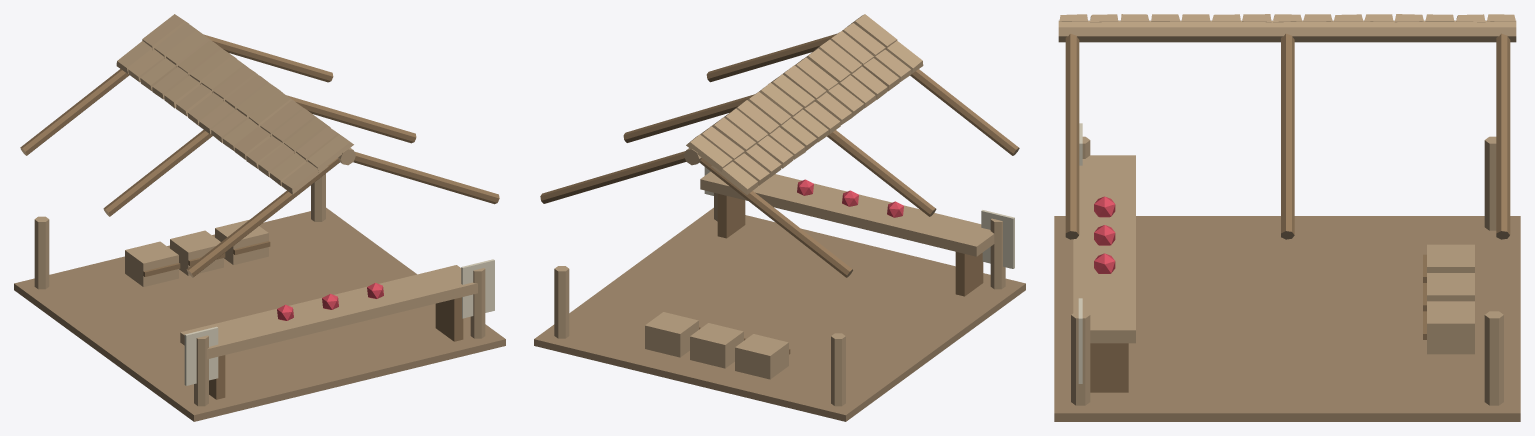
The model's file is building_market_half.glb.
The picture shows the model from 3 angles, left to right: view 1: azimuth 30°, elevation 25°; view 2: azimuth 150°, elevation 25°; view 3: azimuth 270°, elevation 25°; orthographic projection. The views are drawn at different scales.
Parts seen in each view (by area): view 1: building_market_half; view 2: building_market_half; view 3: building_market_half.
Part boxes in pixels (x1,y1,x2,y2): building_market_half: (14, 14, 505, 421); building_market_half: (534, 14, 1025, 421); building_market_half: (1054, 14, 1520, 421).
Size of the model in its own units: 4.85 by 3.57 by 4.85.
